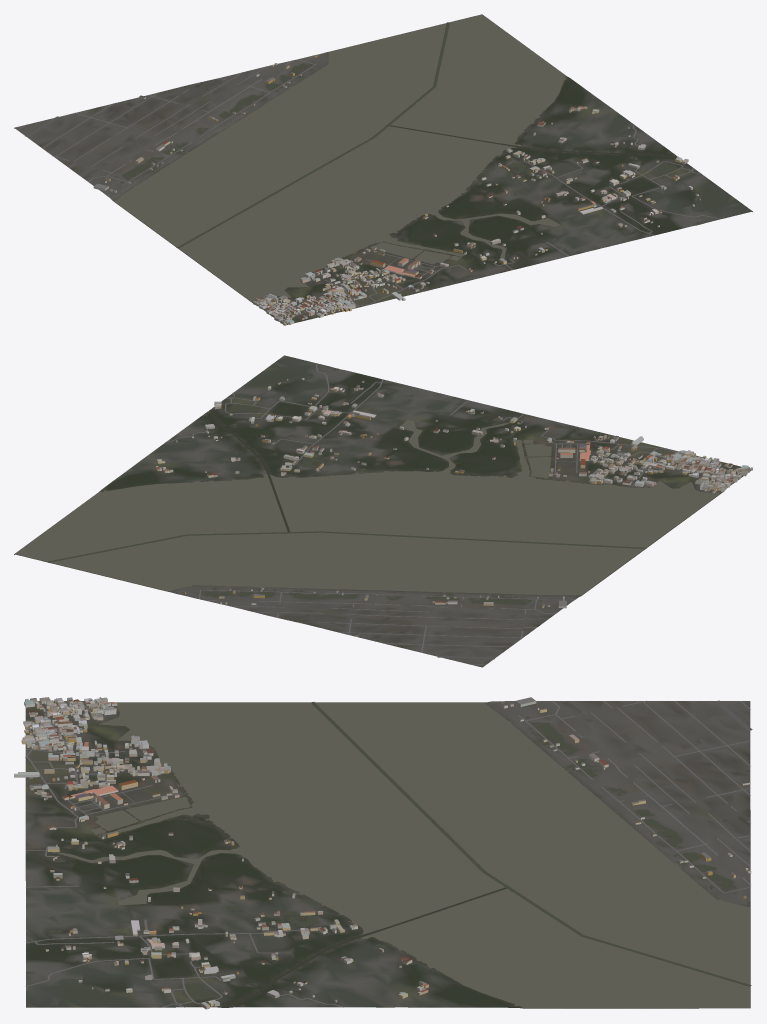
The picture shows the model from 3 angles, top to bottom: view 1: azimuth 30°, elevation 25°; view 2: azimuth 150°, elevation 25°; view 3: azimuth 270°, elevation 25°; orthographic projection. The views are drawn at different scales.
Parts seen in each view (by area): view 1: water, ground, buildings, roads; view 2: water, ground, buildings, roads; view 3: water, ground, buildings, roads.
Part boxes in pixels (x1=…): water: x1=114, y1=14, x2=700, y2=302; ground: x1=14, y1=28, x2=752, y2=324; buildings: x1=93, y1=55, x2=700, y2=325; roads: x1=17, y1=59, x2=720, y2=315; water: x1=15, y1=368, x2=720, y2=605; ground: x1=14, y1=355, x2=752, y2=667; buildings: x1=156, y1=378, x2=752, y2=636; roads: x1=166, y1=363, x2=748, y2=664; water: x1=26, y1=702, x2=751, y2=1007; ground: x1=25, y1=701, x2=750, y2=1008; buildings: x1=14, y1=697, x2=751, y2=1009; roads: x1=25, y1=700, x2=752, y2=1007.
Bounding box in the file's own units: 1416 × 18.21 × 1428.
